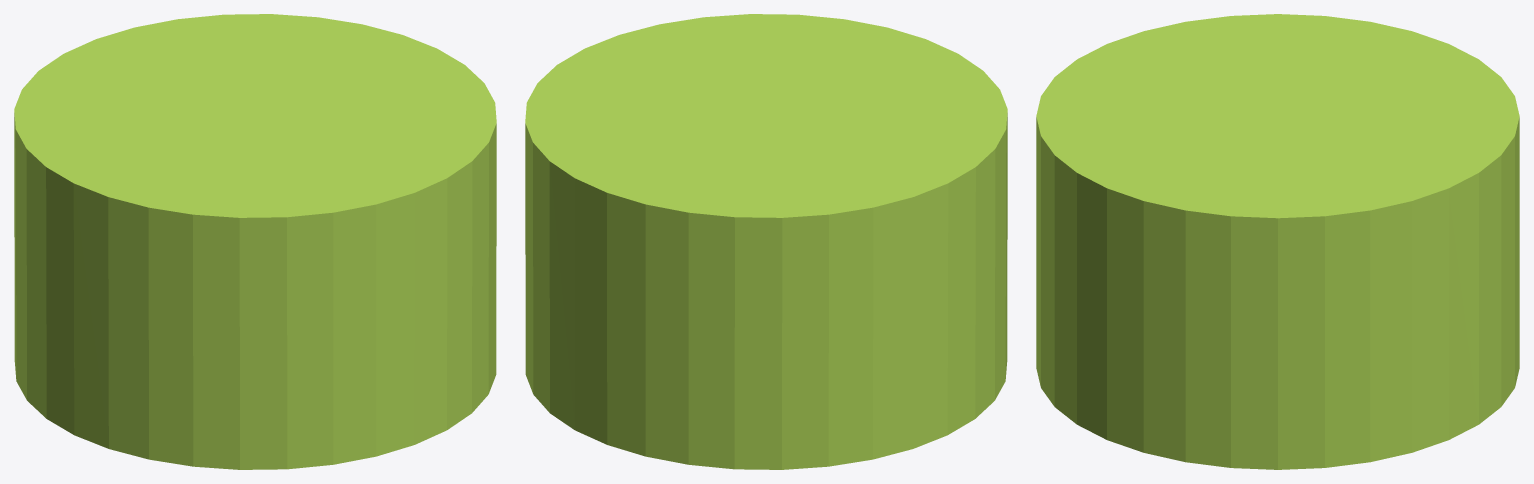
The model's file is ur10e_link_coll_3.dae.
The picture shows the model from 3 angles, left to right: view 1: azimuth 30°, elevation 25°; view 2: azimuth 150°, elevation 25°; view 3: azimuth 270°, elevation 25°; orthographic projection.
Visible parts, largest first — view 1: node; view 2: node; view 3: node.
Boxes of the visible parts, x1=… form: node: x1=14, y1=14, x2=496, y2=469; node: x1=525, y1=14, x2=1007, y2=469; node: x1=1036, y1=14, x2=1519, y2=469.
Size of the model in its own units: 0.15 by 0.0863 by 0.15.
